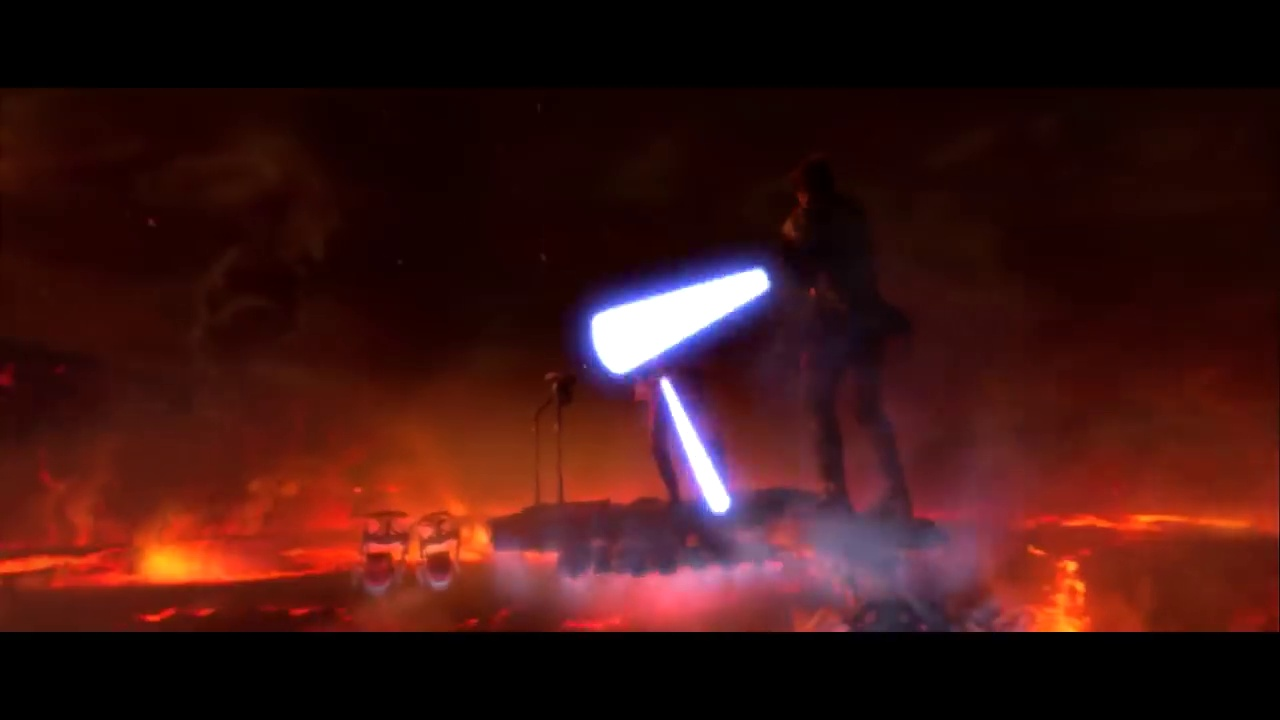lightsaber: (567, 256, 798, 516)
